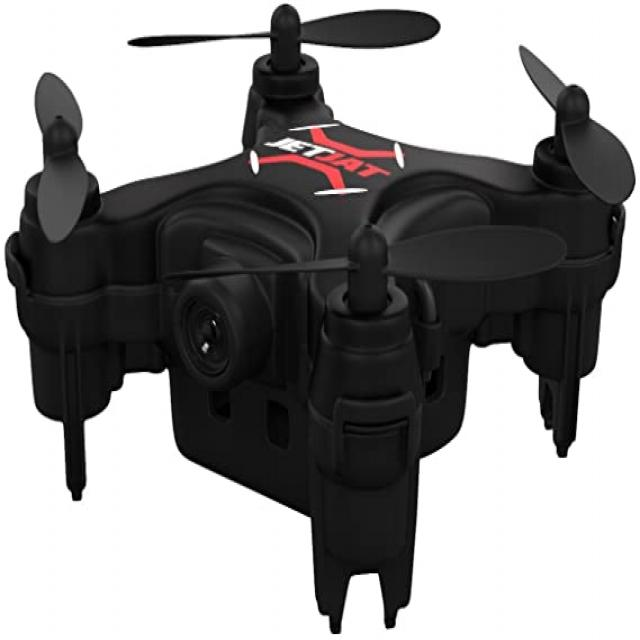drones: (8, 6, 640, 634)
